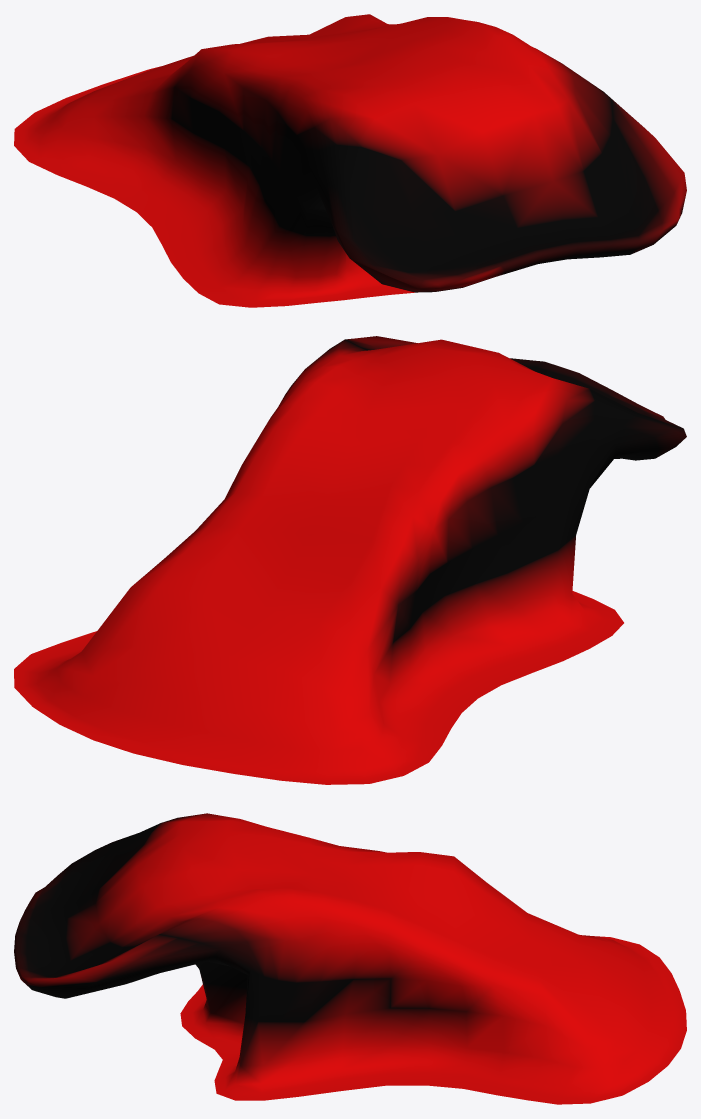
The model's file is GroundObject12C.fbx.
3 renders of one model, top to bottom at view 1: azimuth 30°, elevation 25°; view 2: azimuth 150°, elevation 25°; view 3: azimuth 270°, elevation 25°, orthographic. The views are drawn at different scales.
Parts seen in each view (by area): view 1: GroundObject12C; view 2: GroundObject12C; view 3: GroundObject12C.
Boxes of the visible parts, bbox=[...] form: GroundObject12C: bbox=[14, 14, 686, 307]; GroundObject12C: bbox=[14, 336, 686, 784]; GroundObject12C: bbox=[14, 813, 686, 1104].
Bounding box in the file's own units: 2.52 × 1.12 × 4.14.
